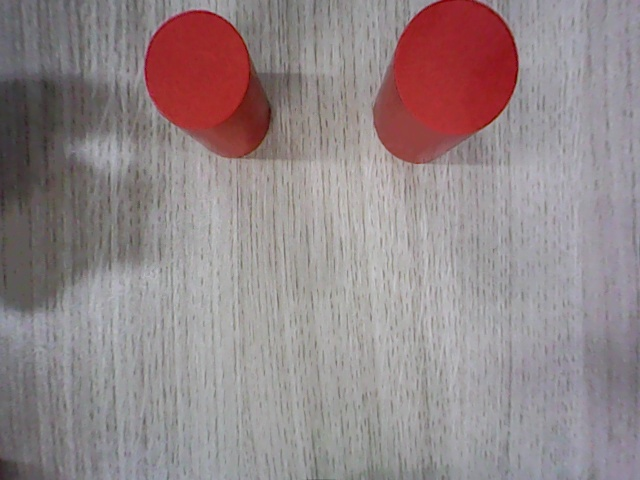upside of cylinder: (395, 0, 520, 131), (145, 11, 251, 127)
